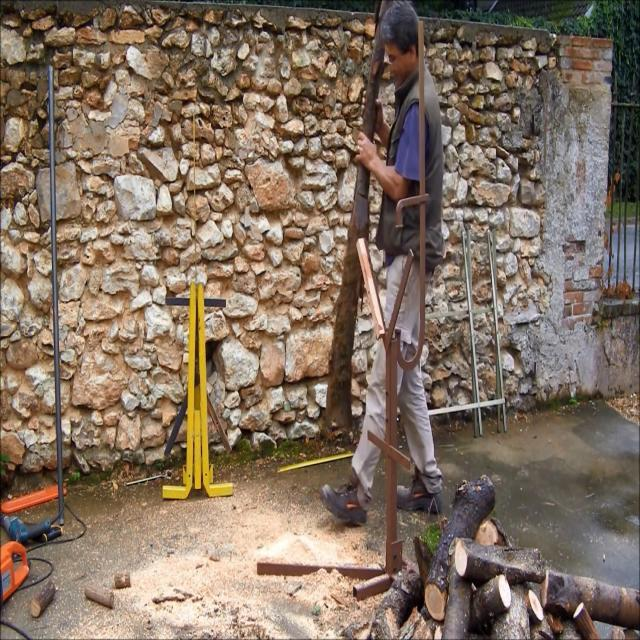Chainsaw: (0, 494, 62, 632)
